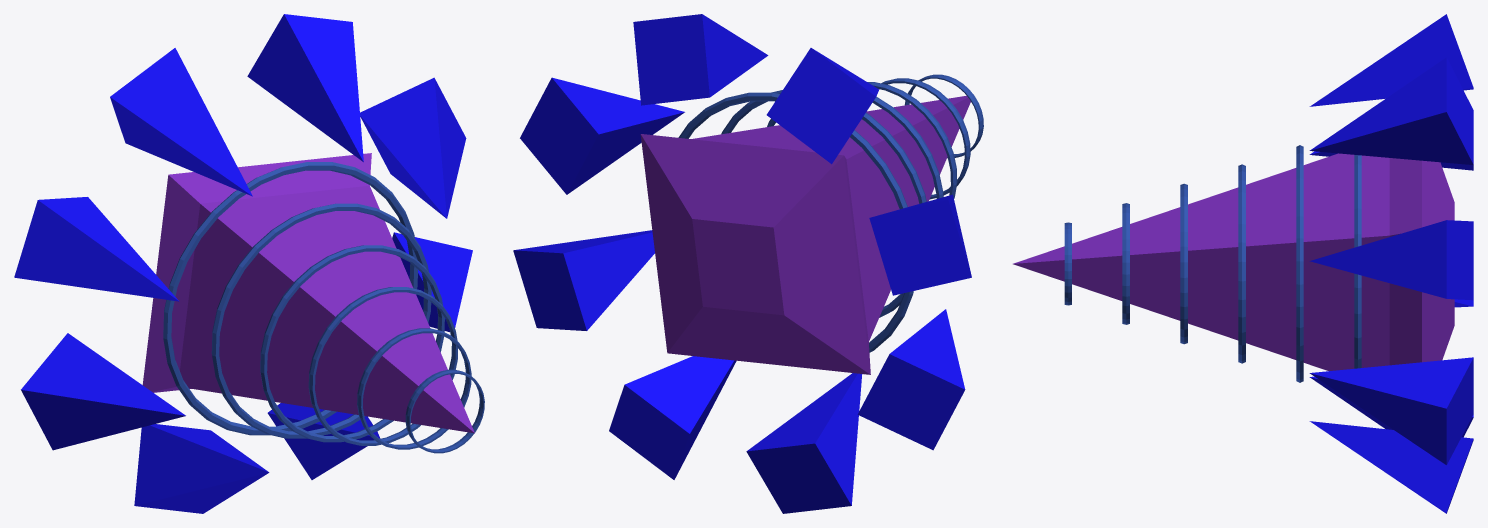
File: Enemy.obj
3 views of the same model, side by side, from view 1: azimuth 30°, elevation 25°; view 2: azimuth 150°, elevation 25°; view 3: azimuth 270°, elevation 25° (orthographic). The views are drawn at different scales.
Parts seen in each view (by area): view 1: 立方体.001, 立方体, トーラス.004; view 2: 立方体.001, 立方体, トーラス.004; view 3: 立方体, 立方体.001, トーラス.004.
Part boxes in pixels (<box>): 立方体.001: <box>14,14,472,513</box>; 立方体: <box>142,153,474,433</box>; トーラス.004: <box>163,162,484,453</box>; 立方体.001: <box>513,14,971,513</box>; 立方体: <box>640,95,970,374</box>; トーラス.004: <box>678,74,983,352</box>; 立方体: <box>1013,153,1454,370</box>; 立方体.001: <box>1309,14,1473,513</box>; トーラス.004: <box>1064,145,1361,382</box>.
Bounding box in the file's own units: 2.63 × 2.63 × 2.44.
